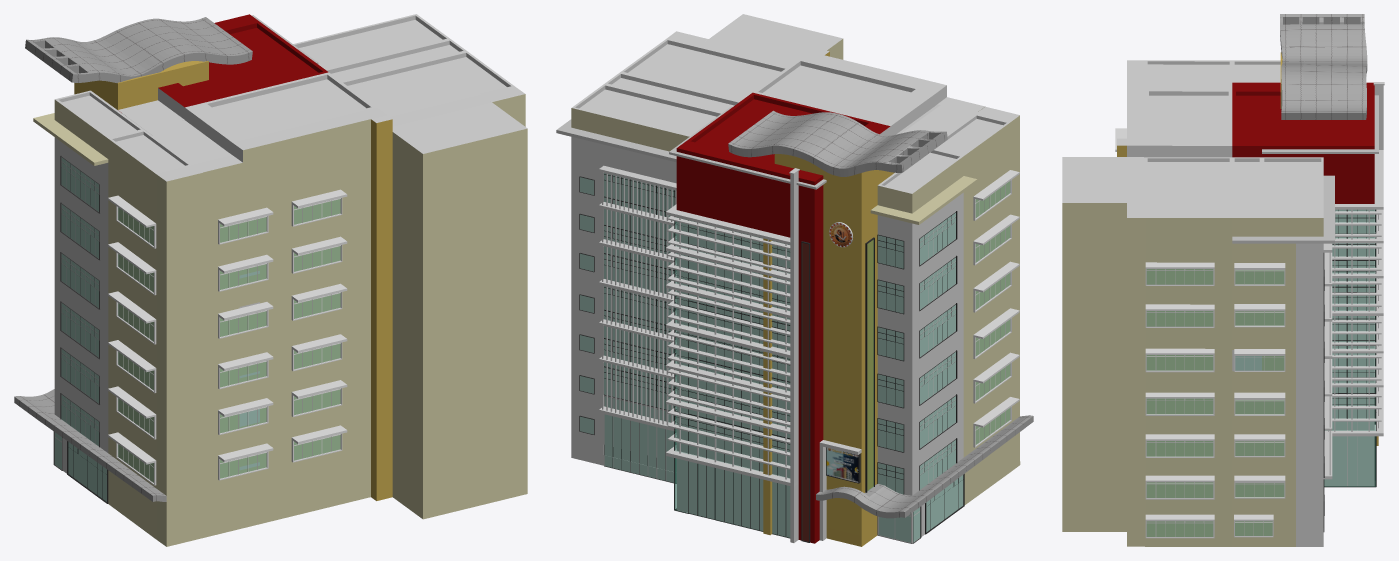
The model's file is exterior.glb.
The picture shows the model from 3 angles, left to right: view 1: azimuth 30°, elevation 25°; view 2: azimuth 150°, elevation 25°; view 3: azimuth 270°, elevation 25°; orthographic projection. The views are drawn at different scales.
Parts seen in each view (by area): view 1: Cube, Arch Top, Arch Bottom; view 2: Cube, Arch Top, Arch Bottom; view 3: Cube, Arch Top.
Boxes of the visible parts, bbox=[...] form: Cube: bbox=[33, 14, 527, 546]; Arch Top: bbox=[25, 17, 252, 82]; Arch Bottom: bbox=[14, 389, 166, 501]; Cube: bbox=[556, 14, 1020, 546]; Arch Top: bbox=[728, 110, 947, 176]; Arch Bottom: bbox=[816, 415, 1033, 518]; Cube: bbox=[1062, 52, 1384, 546]; Arch Top: bbox=[1280, 14, 1367, 119].
Bounding box in the file's own units: 58.69 × 59.88 × 47.09.
Materials: 12 (4 with a texture image).
